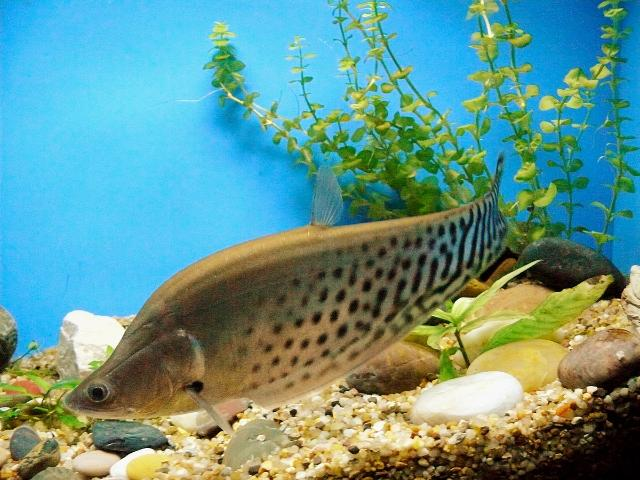Mulut: (45, 370, 125, 422)
Sirip Dada: (173, 376, 234, 438)
Sirip Punggung: (306, 159, 352, 241)
